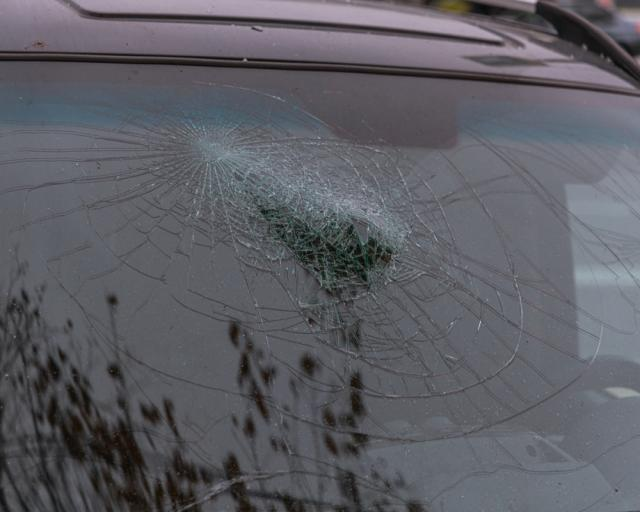glass shatter: (0, 60, 640, 512)
